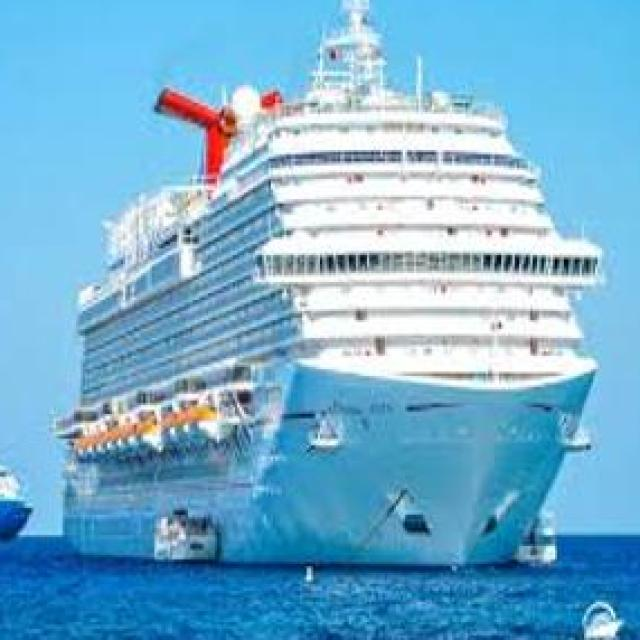passenger ship: (46, 69, 596, 568), (0, 434, 38, 537)
